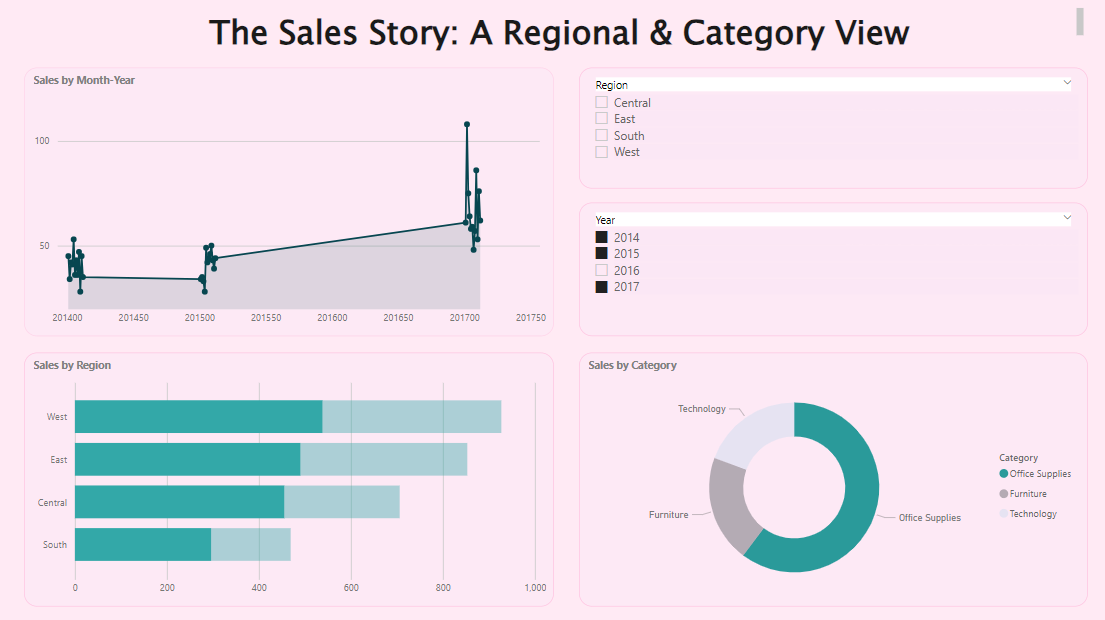

The page's visual inventory and layout, read from the dashboard file:
{"tool":"powerbi","page":{"name":"Page 1","canvas":[1280,720],"ordinal":0},"visuals":[{"type":"lineChart","title":"Sales by Month-Year","fields":{"Y":["CountNonNull(Superstore_.Sales)"],"Category":["Superstore_.MonthYearSort"]},"box":[34.3,82.9,605.7,307.1],"z":0},{"type":"clusteredBarChart","title":"Sales by Region","fields":{"Category":["Superstore_.Region"],"Y":["CountNonNull(Superstore_.Sales)"]},"box":[34.3,408.6,605.7,290],"z":1000},{"type":"donutChart","title":"Sales by Category","fields":{"Category":["Superstore_.Category"],"Y":["CountNonNull(Superstore_.Sales)"]},"box":[668.6,408.6,581.4,290],"z":2000},{"type":"slicer","fields":{"Values":["Superstore_.Region"]},"box":[668.6,82.9,581.4,138.6],"z":3000},{"type":"slicer","fields":{"Values":["Superstore_.Year"]},"box":[668.6,237.1,581.4,152.9],"z":4000},{"type":"textbox","box":[50,10,1200,58.6],"z":5000}]}

Visuals, with their boxes in screenshot pixels (x1, y1, x2, y2), scaled from the page's 1280x720 canvas onto the 1105x620 screenshot:
"Sales by Month-Year" lineChart: <box>30,71,552,336</box>
"Sales by Region" clusteredBarChart: <box>30,352,552,602</box>
"Sales by Category" donutChart: <box>577,352,1079,602</box>
slicer - Superstore_.Region: <box>577,71,1079,191</box>
slicer - Superstore_.Year: <box>577,204,1079,336</box>
textbox: <box>43,9,1079,59</box>
